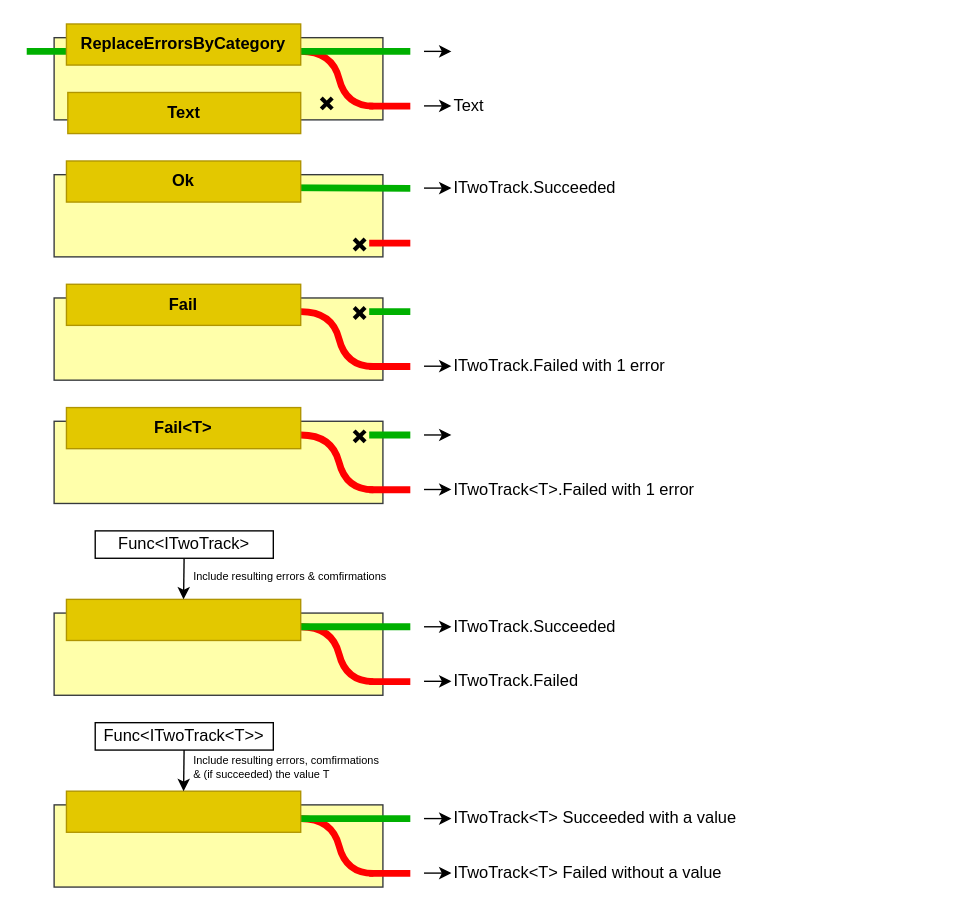
The diagram is 969 pixels wide and 911 high, and some of its shapes have lost their labels. The shapes that lost their labels are listed below. From the top down, each one's centre as x and y in pixels, then its label:
[183,619]: Enclose
[183,811]: Enclose<T>
